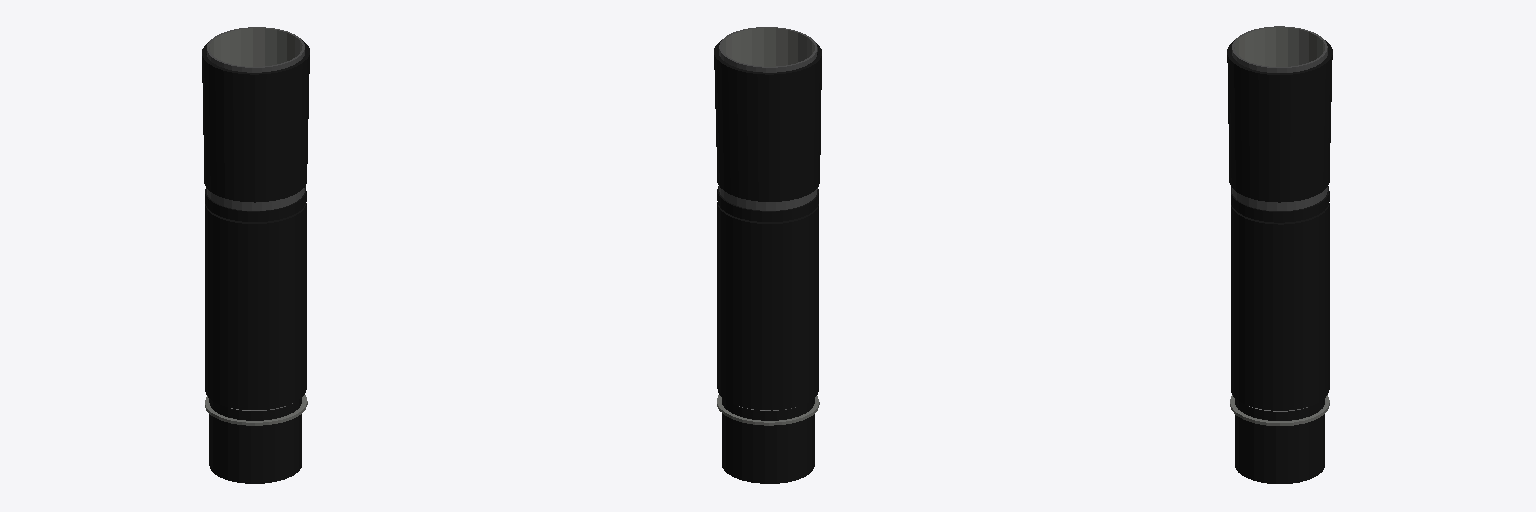
File: МРГ.obj
The picture shows the model from 3 angles: view 1: azimuth 30°, elevation 25°; view 2: azimuth 150°, elevation 25°; view 3: azimuth 270°, elevation 25°; orthographic projection.
Visible parts, largest first — view 1: Mesh4 Difference1 Component_5_1 Model, Mesh6 Difference2 Component_5_1 Model, Mesh1 Difference Component_5_1 Model, Mesh3 Difference1 Component_5_1 Model, Mesh5 Group2 Component_5_1 Model; view 2: Mesh4 Difference1 Component_5_1 Model, Mesh6 Difference2 Component_5_1 Model, Mesh1 Difference Component_5_1 Model, Mesh3 Difference1 Component_5_1 Model, Mesh5 Group2 Component_5_1 Model; view 3: Mesh4 Difference1 Component_5_1 Model, Mesh6 Difference2 Component_5_1 Model, Mesh1 Difference Component_5_1 Model, Mesh3 Difference1 Component_5_1 Model, Mesh5 Group2 Component_5_1 Model.
Boxes of the visible parts, x1=… form: Mesh4 Difference1 Component_5_1 Model: x1=205, y1=203, x2=306, y2=483; Mesh6 Difference2 Component_5_1 Model: x1=202, y1=40, x2=309, y2=202; Mesh1 Difference Component_5_1 Model: x1=207, y1=27, x2=304, y2=210; Mesh3 Difference1 Component_5_1 Model: x1=205, y1=186, x2=306, y2=221; Mesh5 Group2 Component_5_1 Model: x1=205, y1=395, x2=307, y2=425; Mesh4 Difference1 Component_5_1 Model: x1=717, y1=202, x2=818, y2=483; Mesh6 Difference2 Component_5_1 Model: x1=714, y1=40, x2=821, y2=201; Mesh1 Difference Component_5_1 Model: x1=719, y1=27, x2=817, y2=210; Mesh3 Difference1 Component_5_1 Model: x1=717, y1=186, x2=818, y2=221; Mesh5 Group2 Component_5_1 Model: x1=717, y1=395, x2=819, y2=425; Mesh4 Difference1 Component_5_1 Model: x1=1231, y1=203, x2=1329, y2=483; Mesh6 Difference2 Component_5_1 Model: x1=1227, y1=40, x2=1332, y2=202; Mesh1 Difference Component_5_1 Model: x1=1232, y1=26, x2=1327, y2=210; Mesh3 Difference1 Component_5_1 Model: x1=1231, y1=186, x2=1329, y2=222; Mesh5 Group2 Component_5_1 Model: x1=1230, y1=395, x2=1329, y2=425.
Size of the model in its own units: 286 by 1204 by 275.